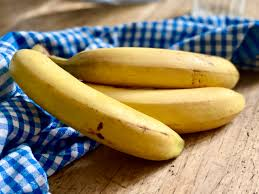banana: (5, 34, 247, 163)
